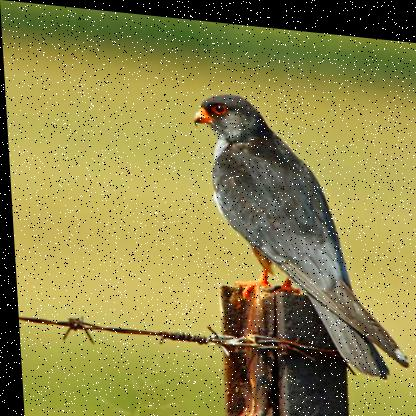Burung: (187, 88, 408, 376)
